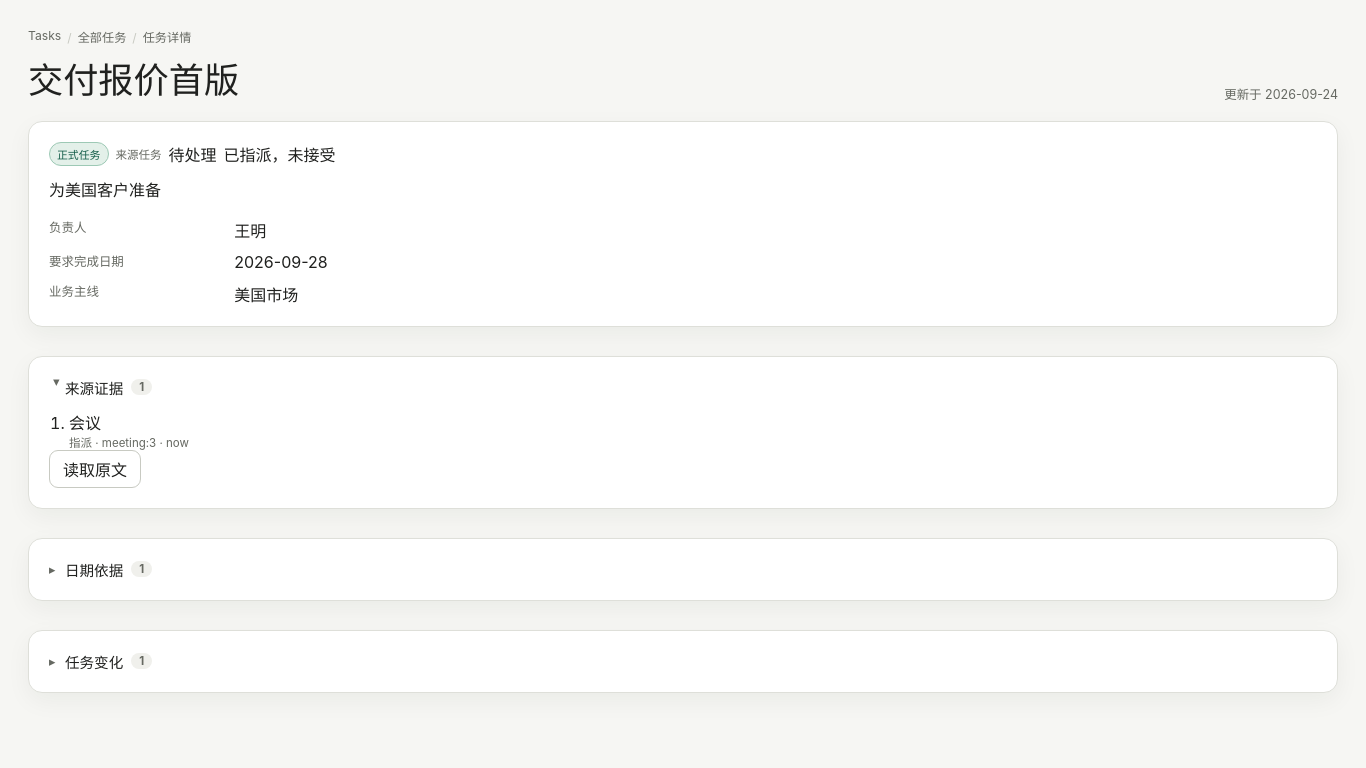
Test: TaskDetailPage › shows Task stage, commitment and source evidence without pretending it is a Project
The image size is (1366, 768).
Expected: the heading "交付报价首版" is shown, [28, 52, 239, 103]
Expected: the text "已指派，未接受" is shown, [224, 142, 336, 166]
Step 1. Click the button with aria-label "读取来源 3 原文" → (95, 469), box [49, 450, 141, 488]
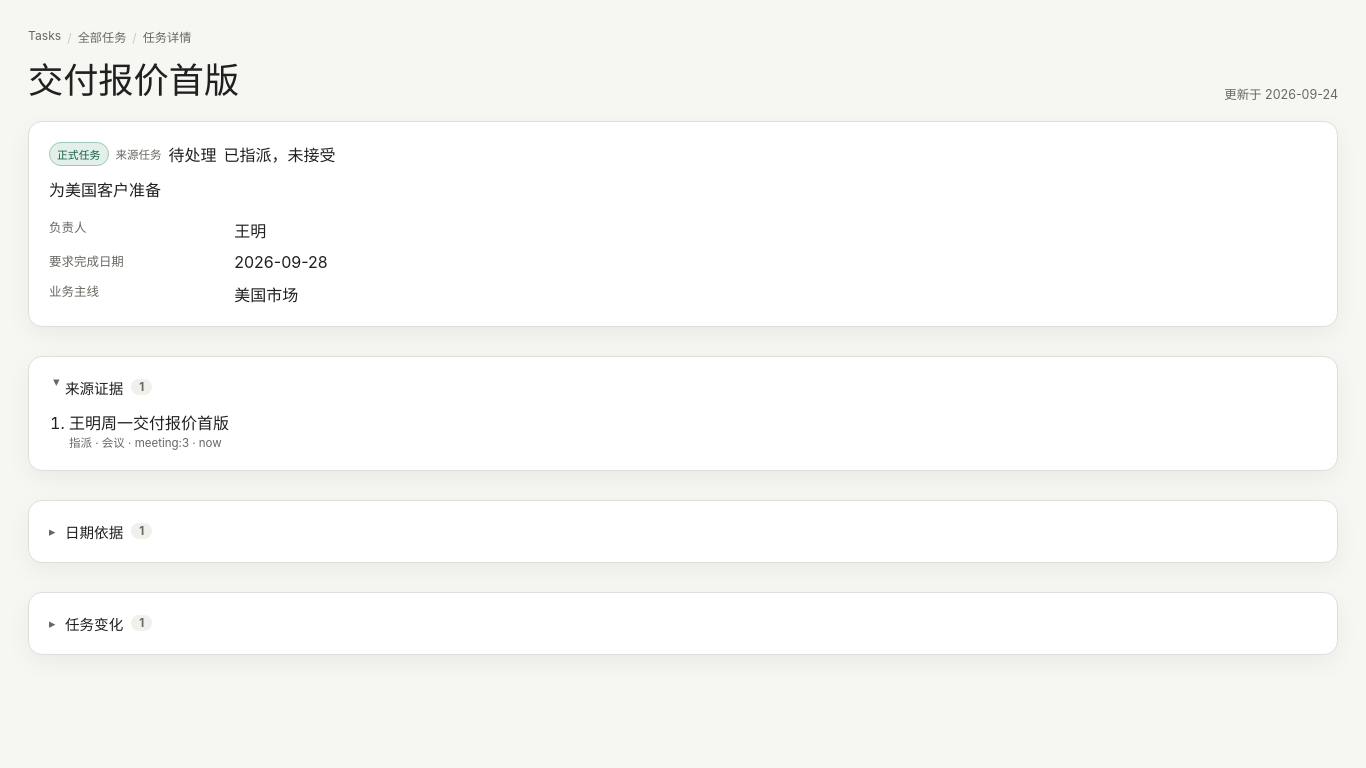
Expected: the text "美国市场" is shown, [234, 285, 298, 305]
Expected: the text "王明周一交付报价首版" is shown, [69, 413, 229, 433]
